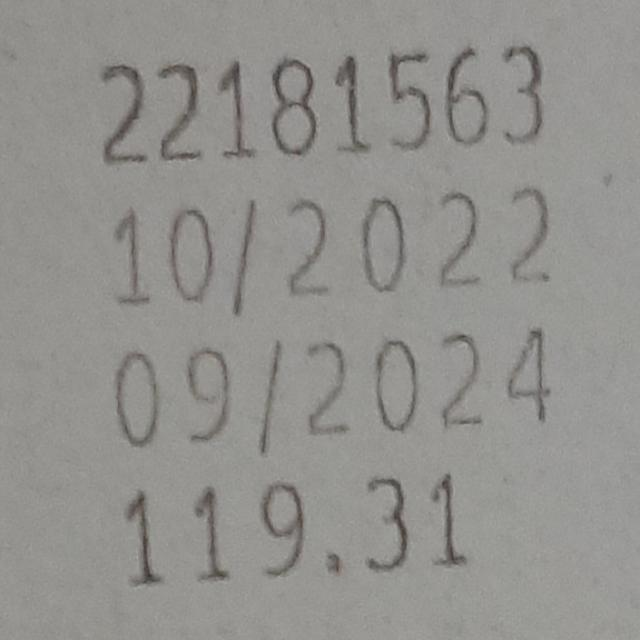sentence: (115, 186, 580, 315), (114, 326, 550, 456), (101, 45, 544, 165), (126, 473, 466, 584)
